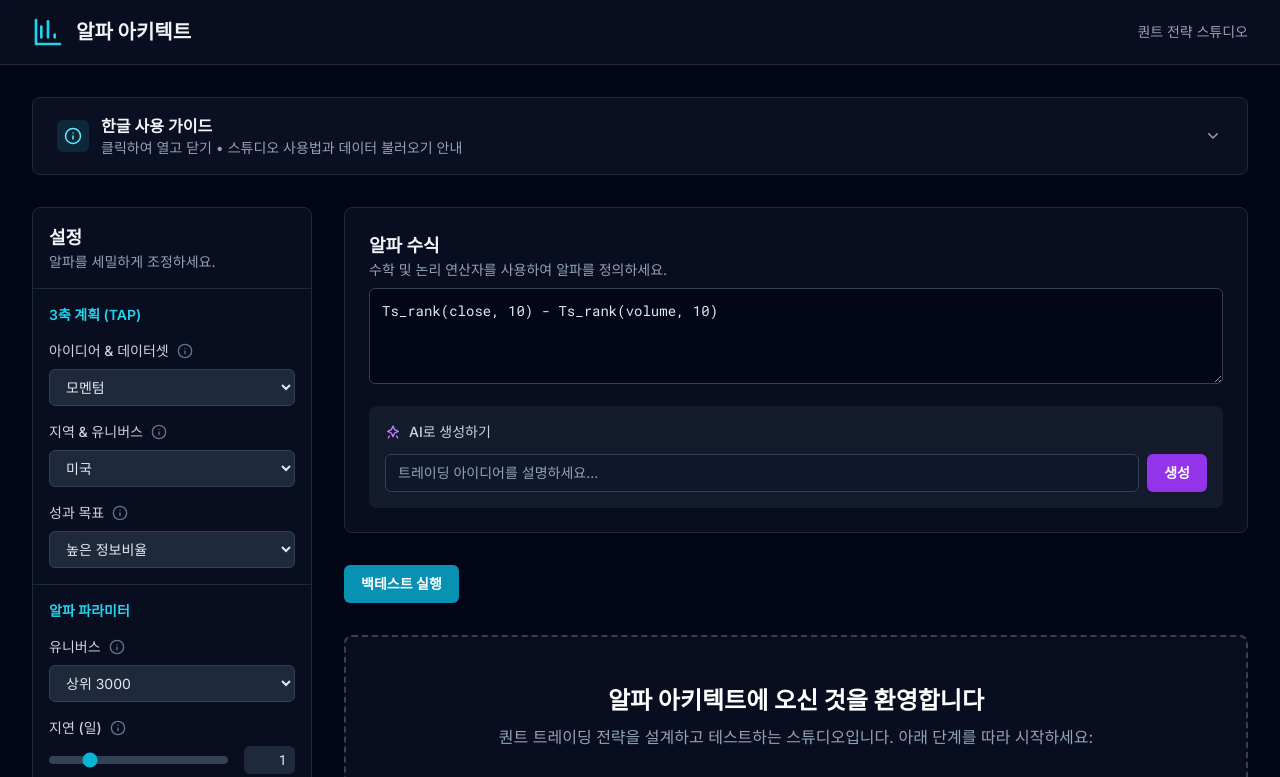
Test case: App › should close error alert when dismiss button is clicked
The width and height of the screenshot is (1280, 777).
Click the button "백테스트 실행" at {"x": 401, "y": 584}, box [344,565,459,603]
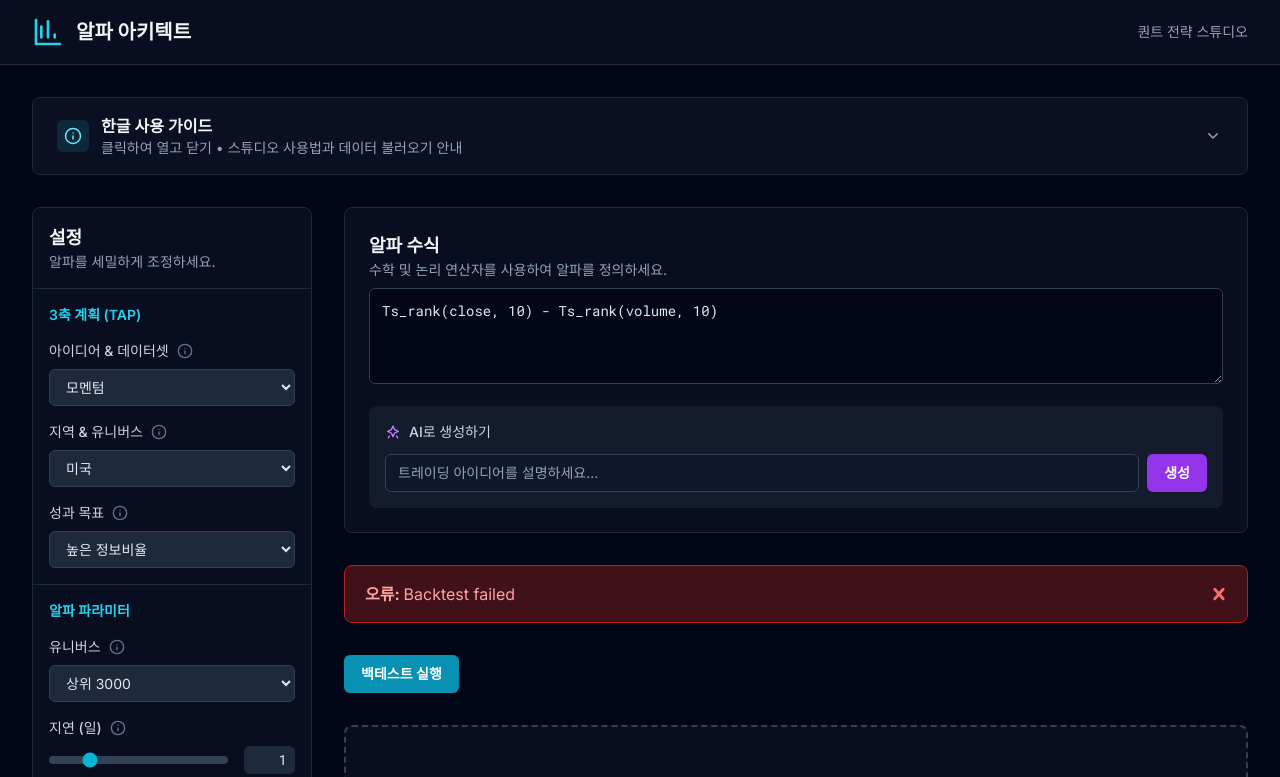
Result: the message "오류: Backtest failed" is shown at [344,565,1248,623]
Click the button named "닫기" at {"x": 1219, "y": 594}, box [1191,566,1247,622]
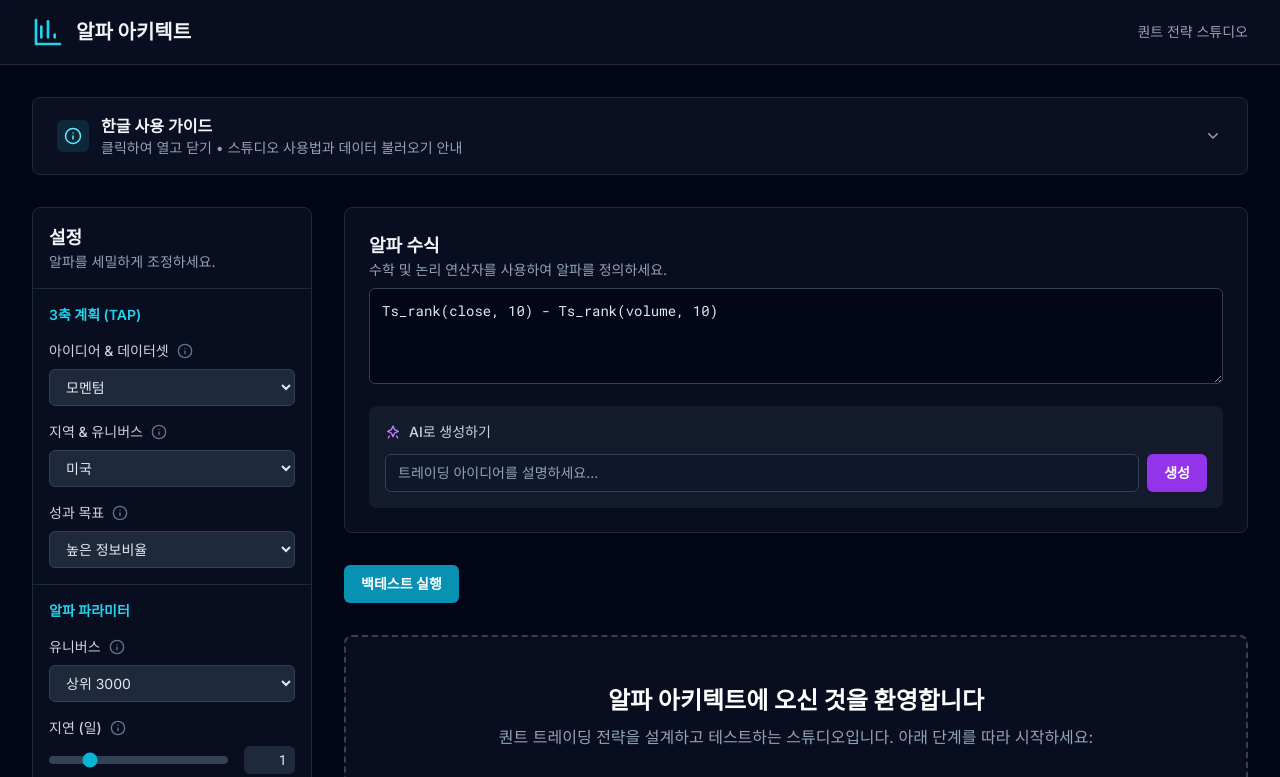
Result: the message "오류:Backtest failed" is gone
